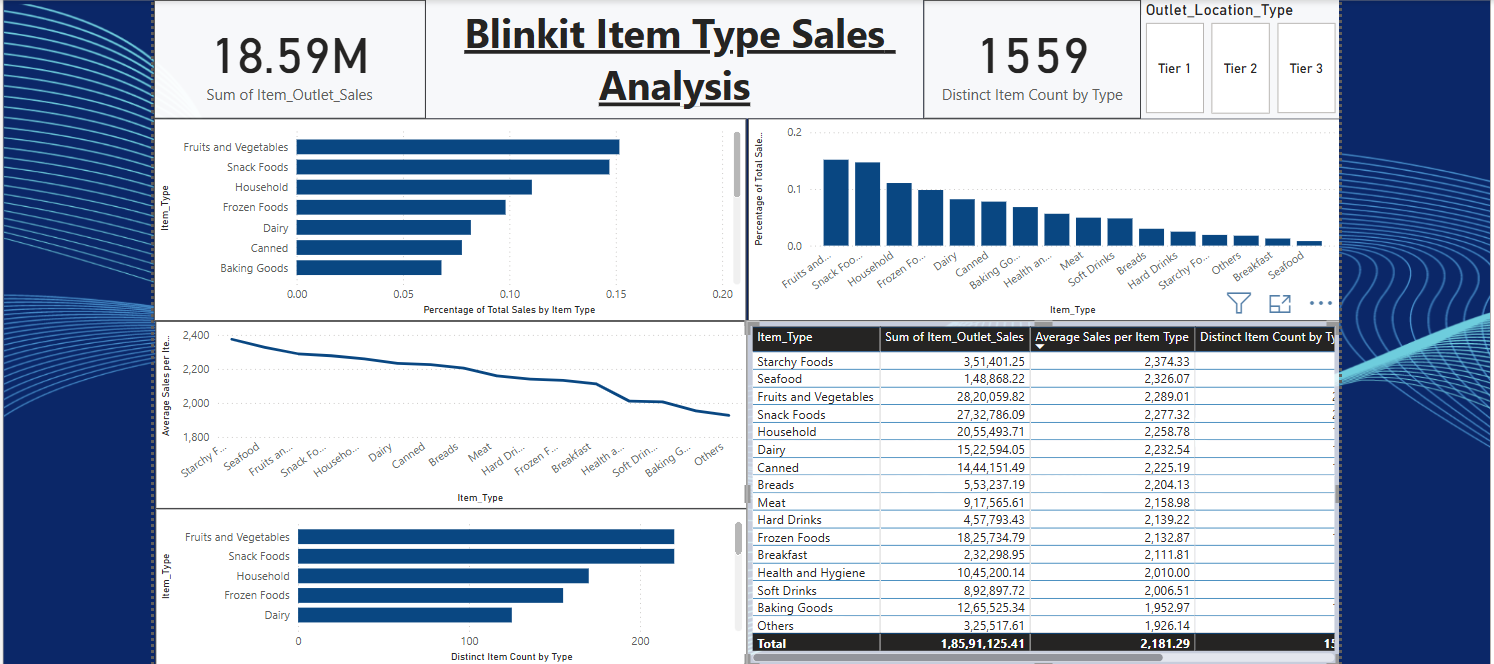

What the dashboard file says about the page in this screenshot:
{"tool":"powerbi","page":{"name":"Page 1","canvas":[1280,720],"ordinal":1},"visuals":[{"type":"textbox","box":[293.1,0,537.6,127.9],"z":0},{"type":"card","fields":{"Values":["Sum(Blinkit table.Item_Outlet_Sales)"]},"box":[0,0,293.1,127.9],"z":1000},{"type":"card","fields":{"Values":["Blinkit table.Distinct Item Count by Type"]},"box":[830.7,0,234.8,127.9],"z":2000},{"type":"barChart","fields":{"Y":["Blinkit table.Percentage of Total Sales by Item Type"],"Category":["Blinkit table.Item_Type"]},"box":[0,127.9,639.6,218.6],"z":3000},{"type":"columnChart","fields":{"Category":["Blinkit table.Item_Type"],"Y":["Blinkit table.Percentage of Total Sales by Item Type"]},"box":[641.2,127.9,639.6,218.6],"z":3001},{"type":"lineChart","fields":{"Y":["Blinkit table.Average Sales per Item Type"],"Category":["Blinkit table.Item_Type"]},"box":[1.6,346.5,639.6,202.4],"z":3002},{"type":"clusteredBarChart","fields":{"Y":["Blinkit table.Distinct Item Count by Type"],"Category":["Blinkit table.Item_Type"]},"box":[1.6,548.9,639.6,171.6],"z":3003},{"type":"tableEx","fields":{"Values":["Blinkit table.Item_Type","Sum(Blinkit table.Item_Outlet_Sales)","Blinkit table.Average Sales per Item Type","Blinkit table.Distinct Item Count by Type","Blinkit table.Percentage of Total Sales by Item Type"]},"box":[639.6,346.5,641.2,374],"z":3004},{"type":"advancedSlicerVisual","fields":{"Values":["Blinkit table.Outlet_Location_Type"]},"box":[1065.5,0,215.4,127.9],"z":3005}]}

Visuals, with their boxes on the page's 1280x720 design canvas (x1, y1, x2, y2). These are canvas units, not pixel positions in the 1494x664 screenshot, which may show the page scaled, cropped or inside an application window:
textbox: {"x1": 293, "y1": 0, "x2": 831, "y2": 128}
card - Sum(Blinkit table.Item_Outlet_Sales): {"x1": 0, "y1": 0, "x2": 293, "y2": 128}
card - Blinkit table.Distinct Item Count by Type: {"x1": 831, "y1": 0, "x2": 1066, "y2": 128}
barChart - Blinkit table.Percentage of Total Sales by Item Type x Blinkit table.Item_Type: {"x1": 0, "y1": 128, "x2": 640, "y2": 346}
columnChart - Blinkit table.Item_Type x Blinkit table.Percentage of Total Sales by Item Type: {"x1": 641, "y1": 128, "x2": 1281, "y2": 346}
lineChart - Blinkit table.Average Sales per Item Type x Blinkit table.Item_Type: {"x1": 2, "y1": 346, "x2": 641, "y2": 549}
clusteredBarChart - Blinkit table.Distinct Item Count by Type x Blinkit table.Item_Type: {"x1": 2, "y1": 549, "x2": 641, "y2": 720}
tableEx - Blinkit table.Item_Type x Sum(Blinkit table.Item_Outlet_Sales): {"x1": 640, "y1": 346, "x2": 1281, "y2": 720}
advancedSlicerVisual - Blinkit table.Outlet_Location_Type: {"x1": 1066, "y1": 0, "x2": 1281, "y2": 128}
